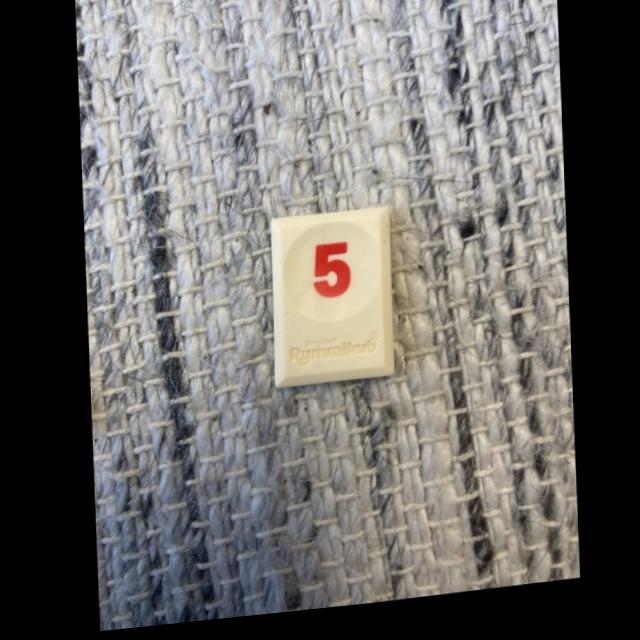red_5: (269, 214, 389, 393)
